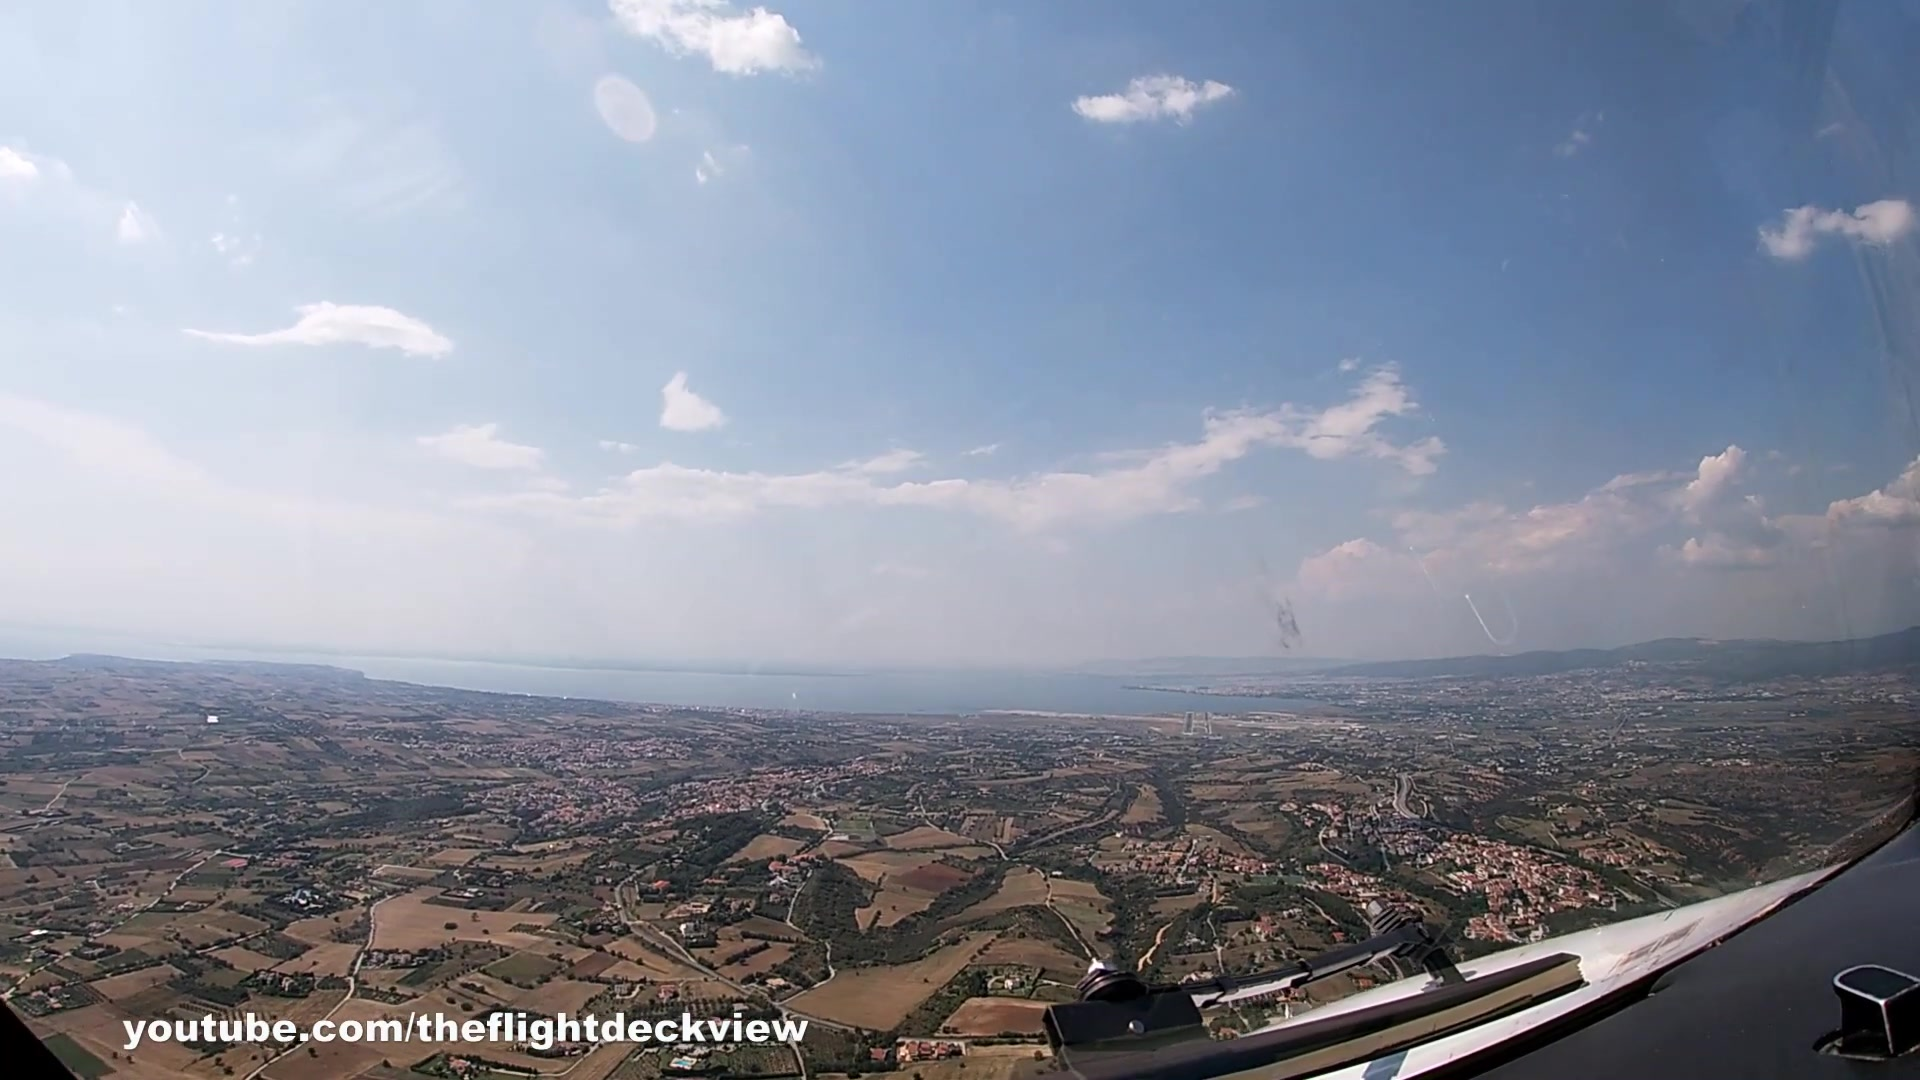runway: (1182, 709, 1196, 736)
